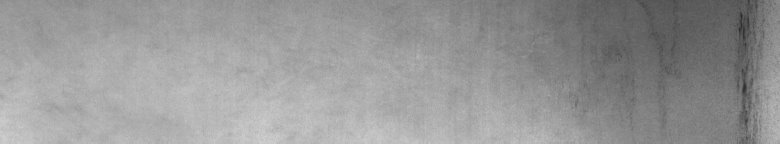ka: (575, 4, 768, 136)
